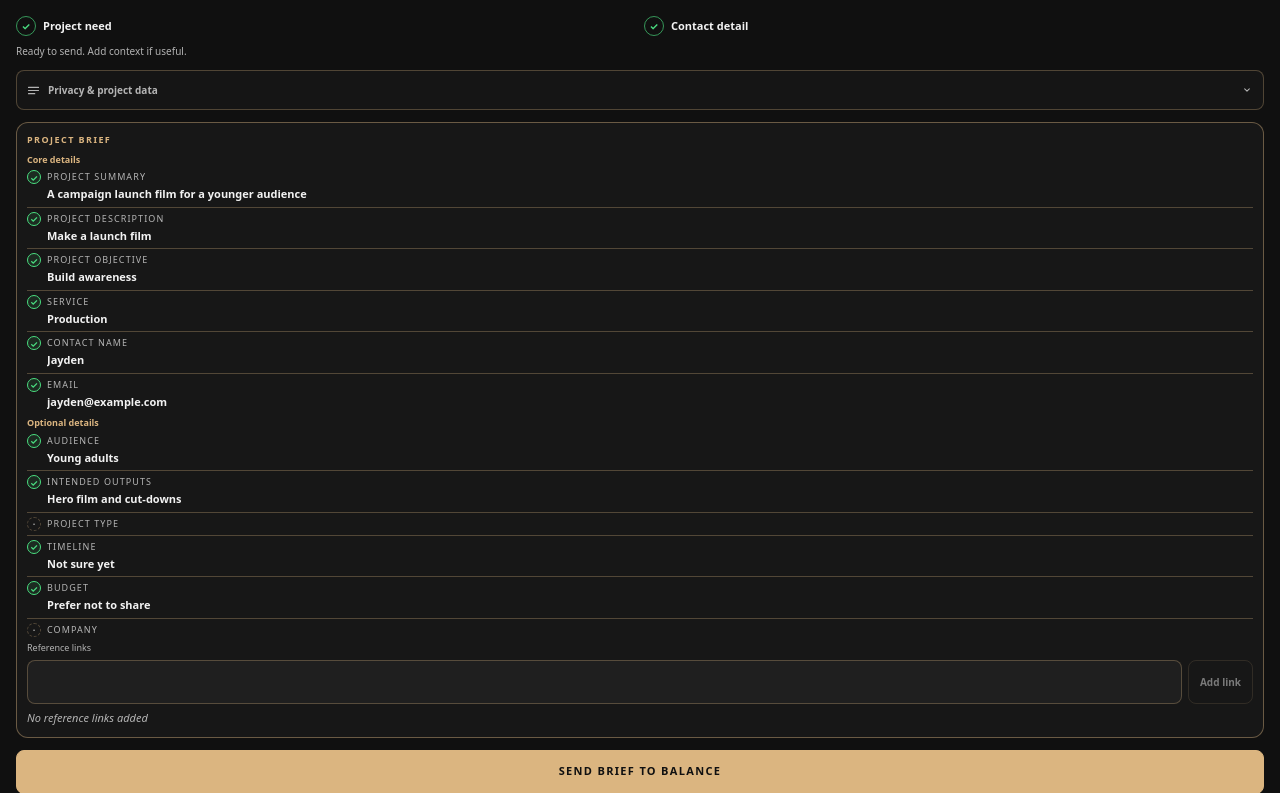
Scenario: ReviewPanel › keeps consent and deletion distinct with inline feedback and confirmation
Click the heading "Privacy & project data".
click(103, 90)  # box [16,70,1264,110]
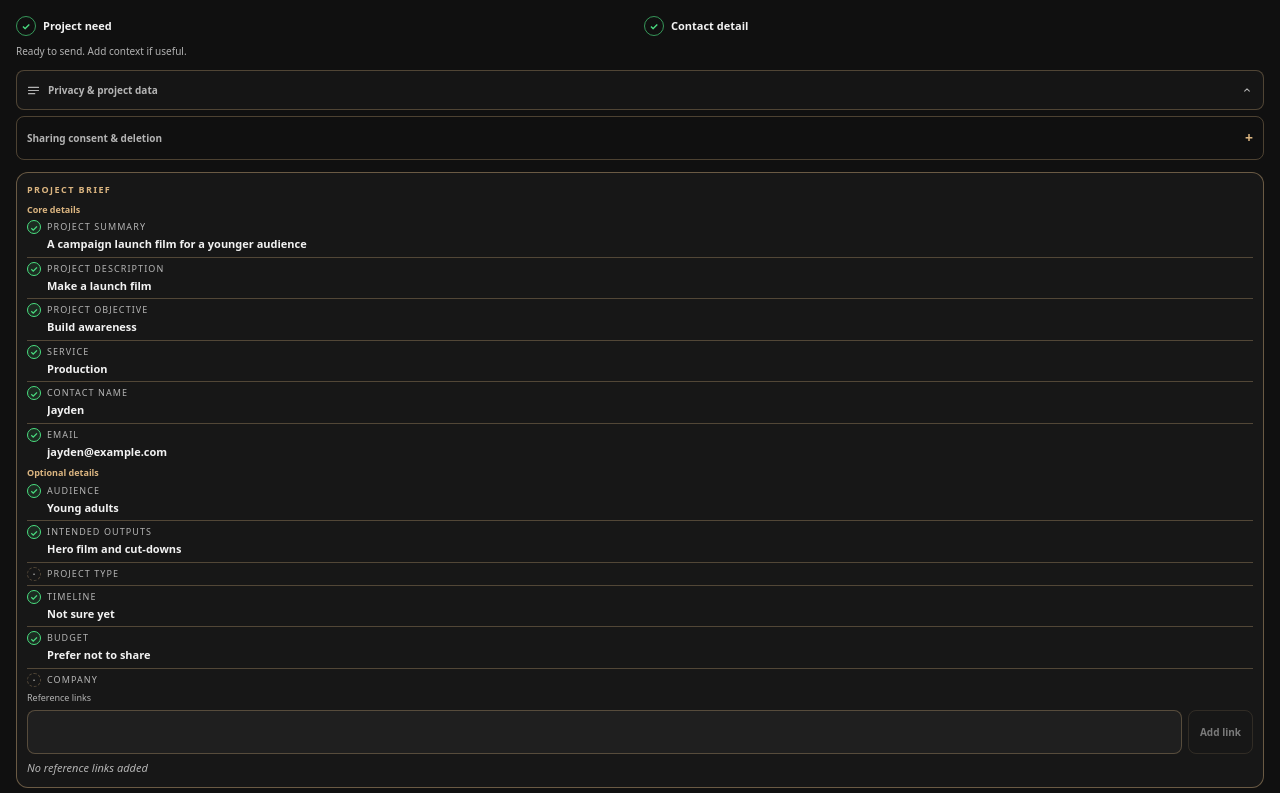
Click the heading "Sharing consent & deletion".
click(94, 138)  # box [16,116,1264,160]
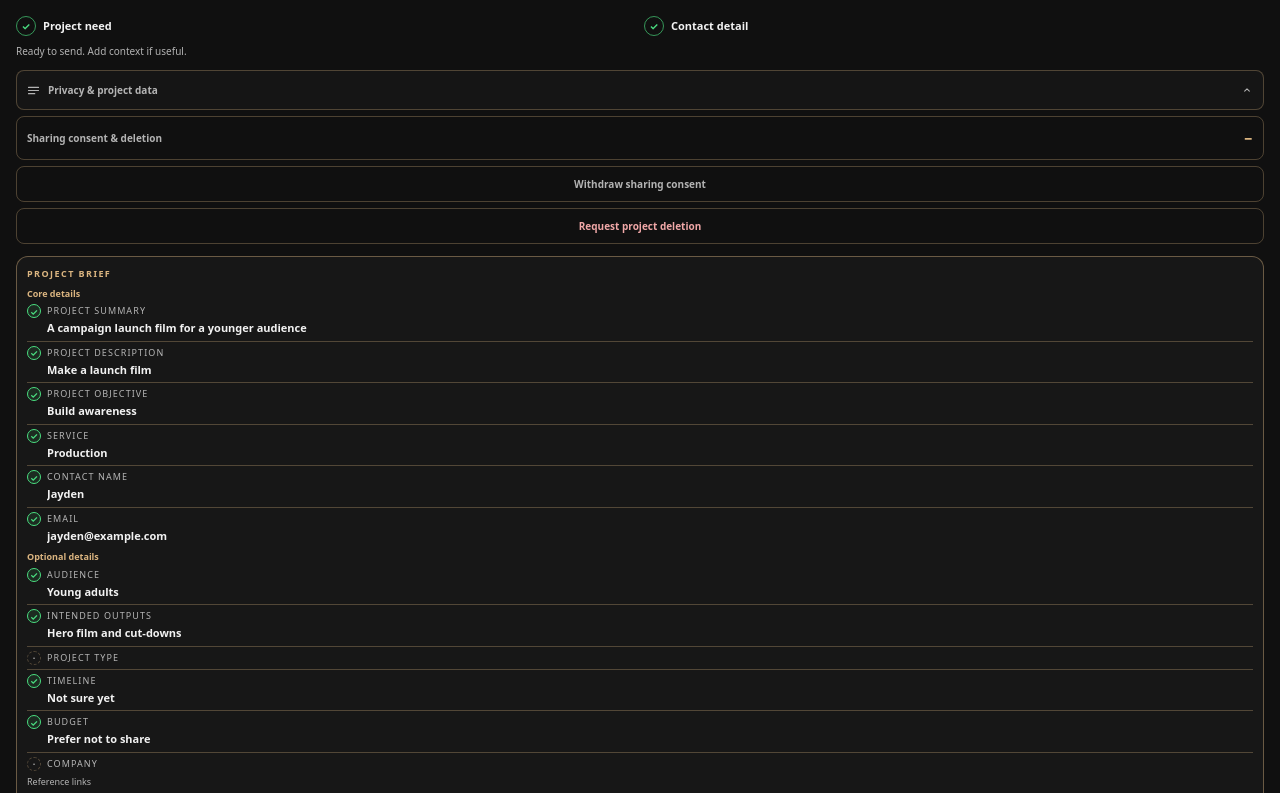
Click the button "Withdraw sharing consent".
click(640, 184)  # box [16,166,1264,202]
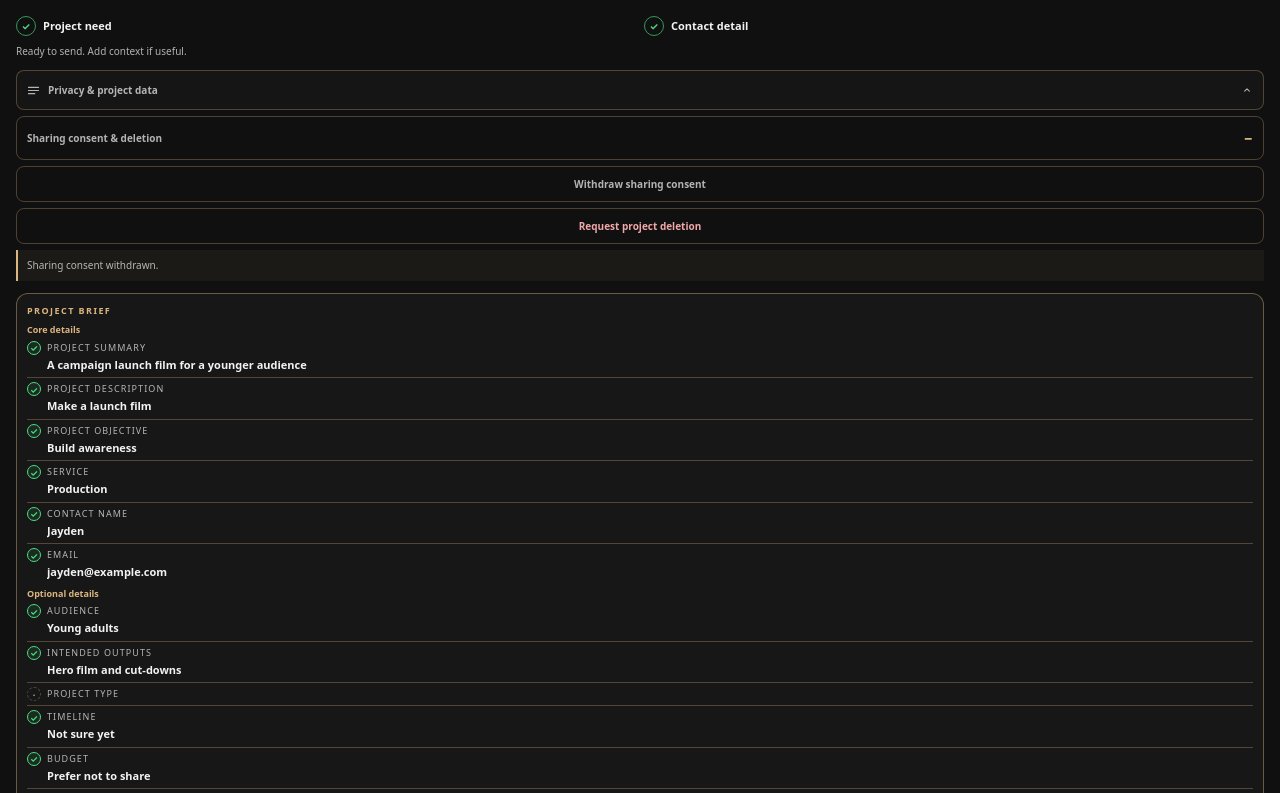
Result: the message reads "Sharing consent withdrawn." at [27,258,158,272]
Click the button "Request project deletion".
click(640, 226)  # box [16,208,1264,244]
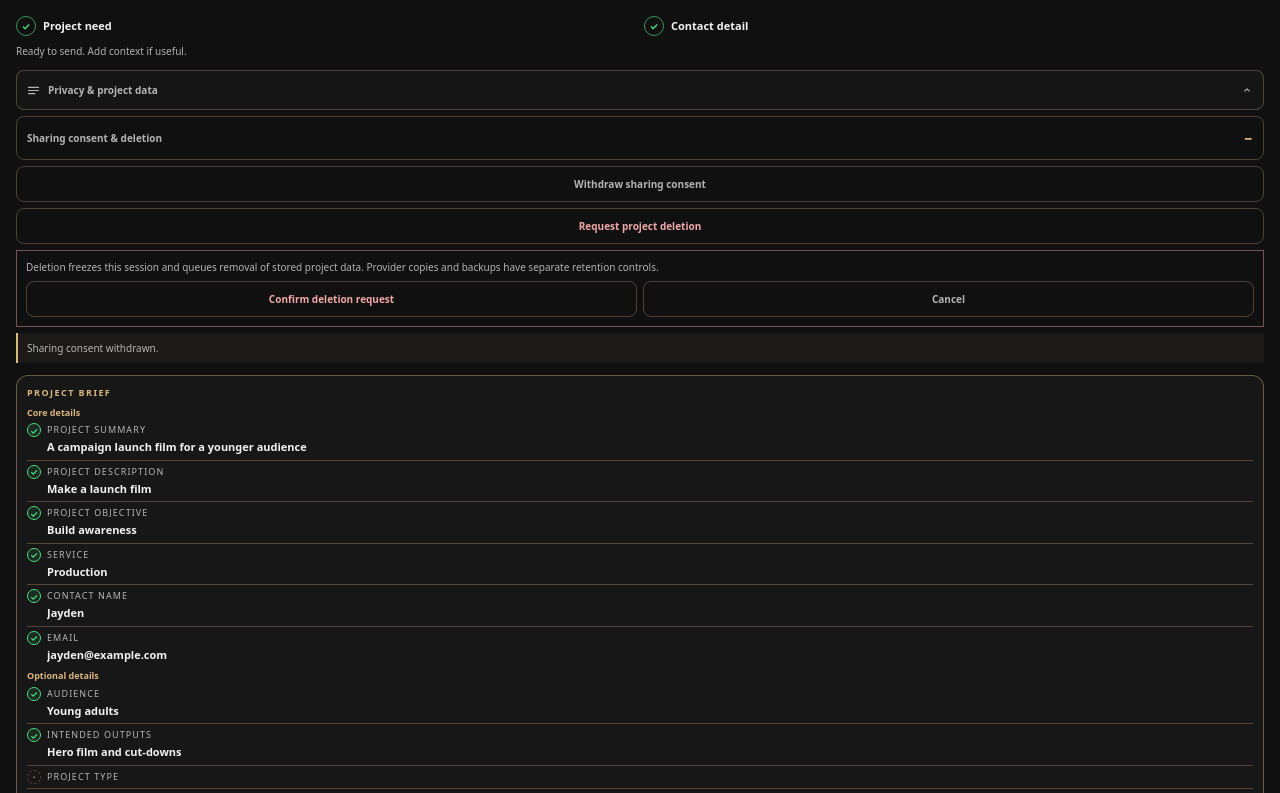
Click the button "Confirm deletion request".
click(332, 298)  # box [26,280,637,316]
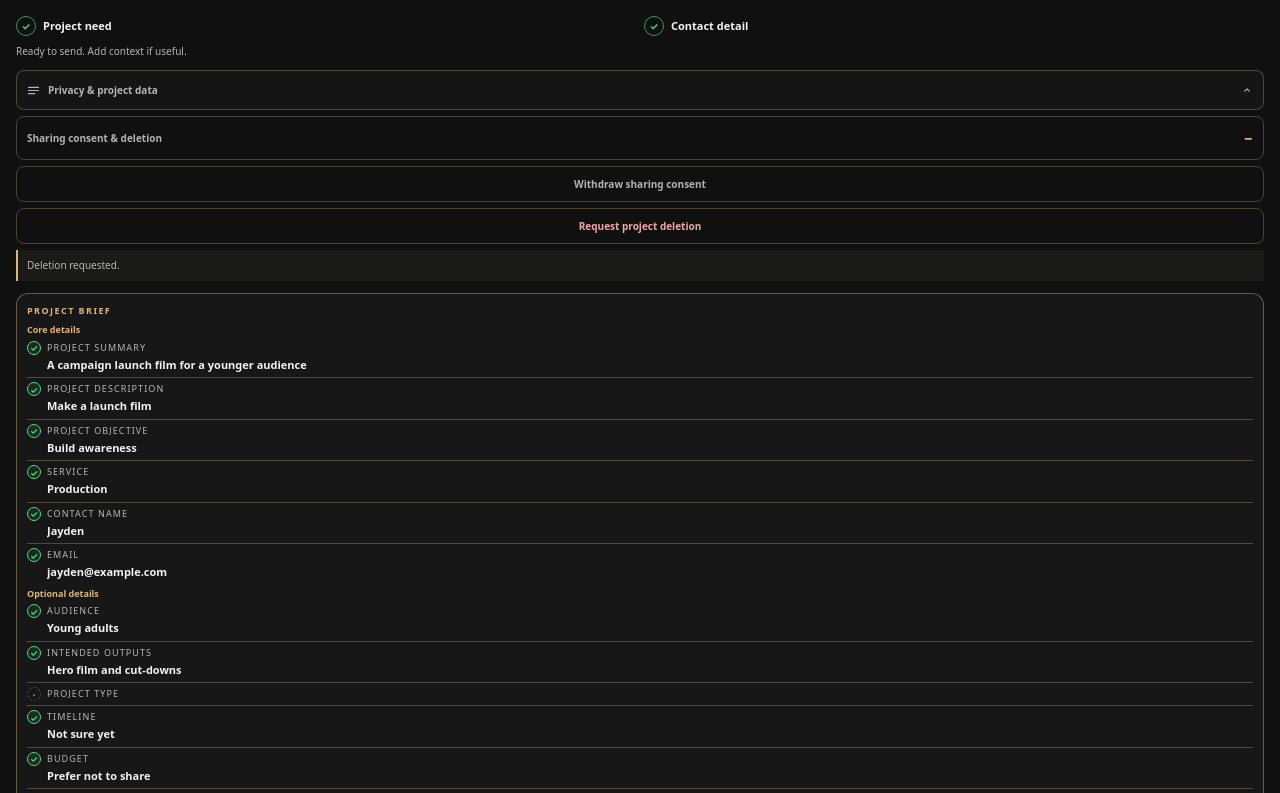
Result: the message reads "Deletion requested." at [27,258,120,272]
